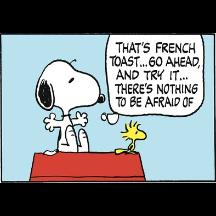snoopy: (36, 57, 106, 157)
